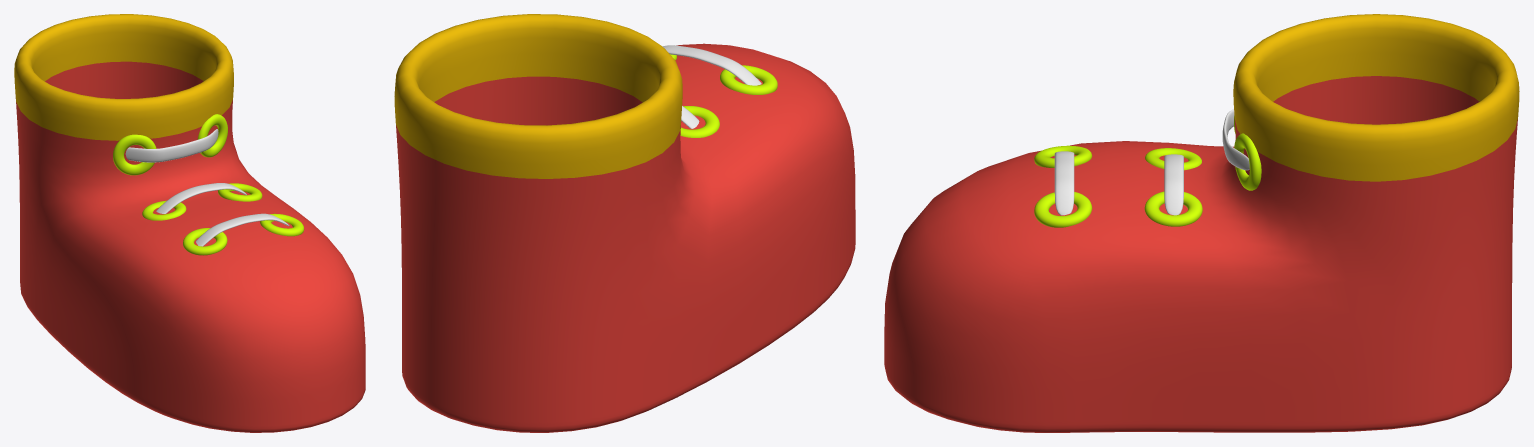
The model's file is zapato.fbx.
The picture shows the model from 3 angles, left to right: view 1: azimuth 30°, elevation 25°; view 2: azimuth 150°, elevation 25°; view 3: azimuth 270°, elevation 25°; orthographic projection. The views are drawn at different scales.
Parts seen in each view (by area): view 1: Cylinder, Cylinder.003, Plane.002, Plane, Plane.001; view 2: Cylinder, Cylinder.003, Plane; view 3: Cylinder, Cylinder.003, Plane, Plane.001, Plane.002.
Boxes of the visible parts, x1,y1,x2,y2 form: Cylinder: (14,14,365,432); Cylinder.003: (113,114,304,255); Plane.002: (125,129,218,162); Plane: (196,213,289,246); Plane.001: (156,183,246,213); Cylinder: (394,14,855,432); Cylinder.003: (670,54,777,137); Plane: (662,45,761,85); Cylinder: (884,14,1519,432); Cylinder.003: (1034,115,1261,227); Plane: (1054,151,1074,215); Plane.001: (1164,154,1183,215); Plane.002: (1222,109,1249,170).
Bounding box in the file's own units: 204 × 227 × 422.
